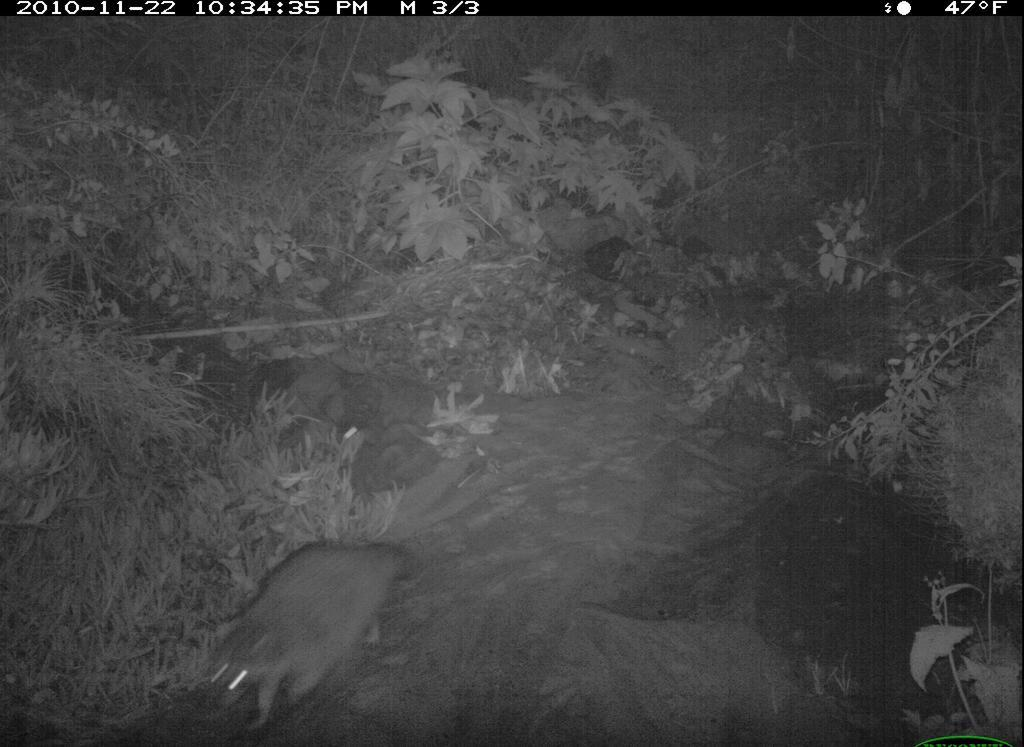raccoon: (193, 537, 424, 738)
